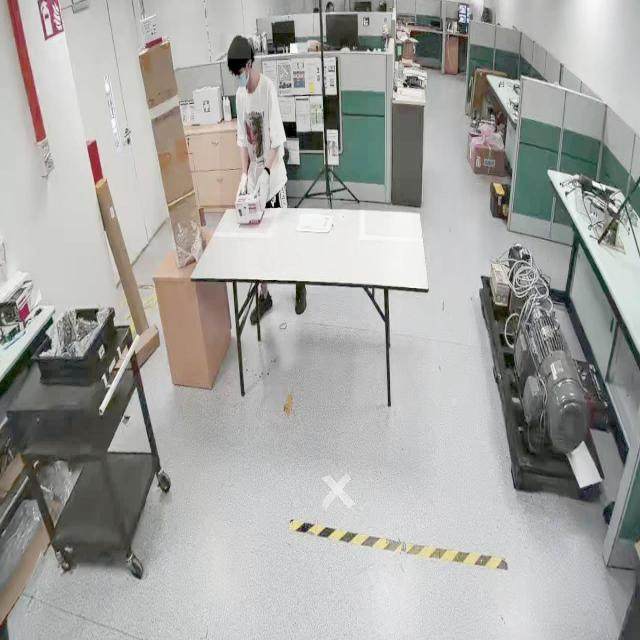face_mask: (234, 65, 252, 93)
hand_glove: (232, 171, 250, 213), (256, 168, 270, 212)
head_nohelmet: (226, 34, 252, 60)
person: (219, 33, 297, 224)
shoes: (248, 290, 276, 329), (290, 280, 310, 317)
